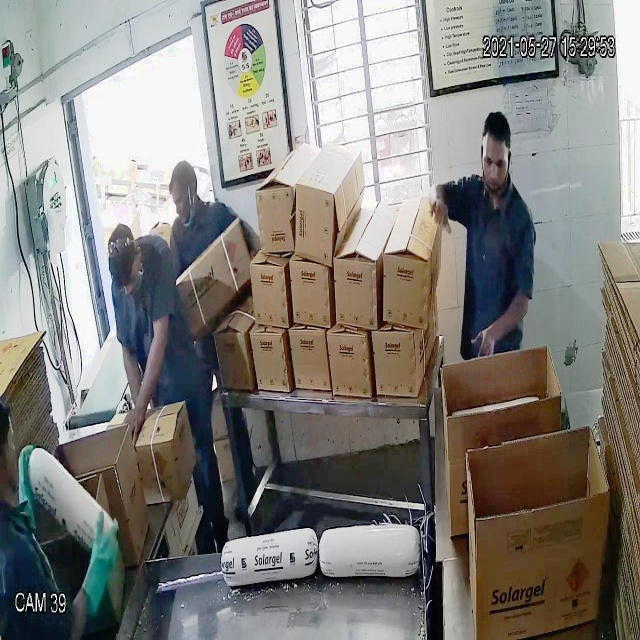Sin_gafas: (474, 147, 518, 179)
